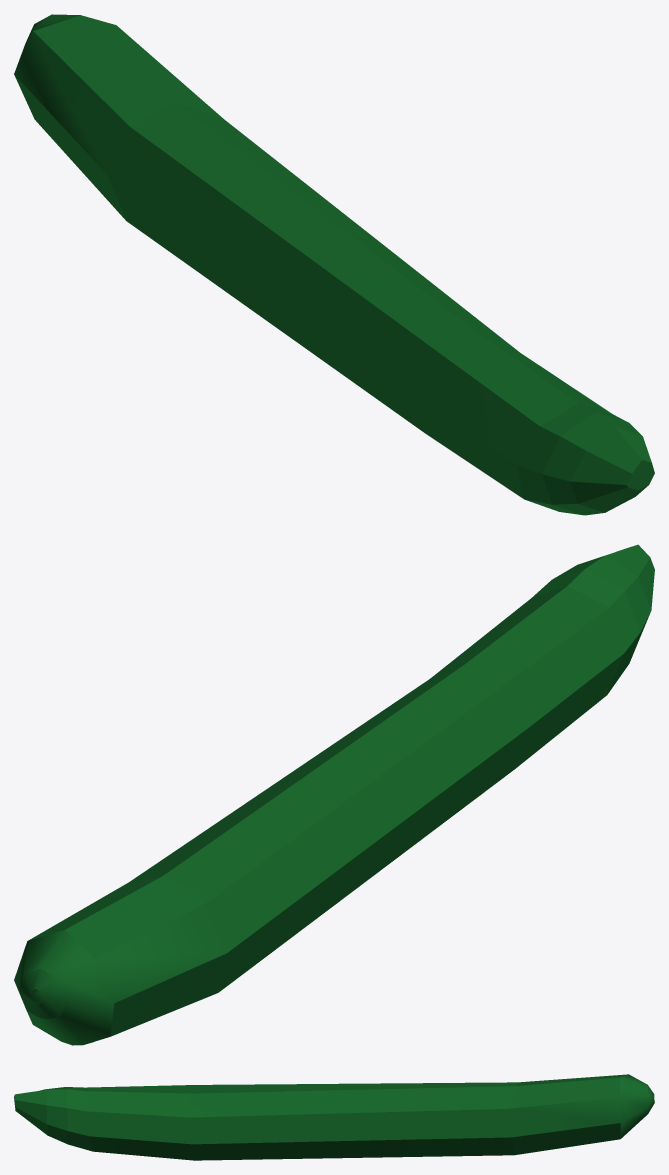
Rendered from Cucumber.fbx.
3 renders of one model, top to bottom at view 1: azimuth 30°, elevation 25°; view 2: azimuth 150°, elevation 25°; view 3: azimuth 270°, elevation 25°, orthographic. The views are drawn at different scales.
Parts seen in each view (by area): view 1: Banana; view 2: Banana; view 3: Banana.
Boxes of the visible parts, left/top/right/bottom form: Banana: left=14, top=14, right=654, bottom=515; Banana: left=14, top=544, right=654, bottom=1045; Banana: left=14, top=1074, right=654, bottom=1160.
Bounding box in the file's own units: 528 × 610 × 4488.
